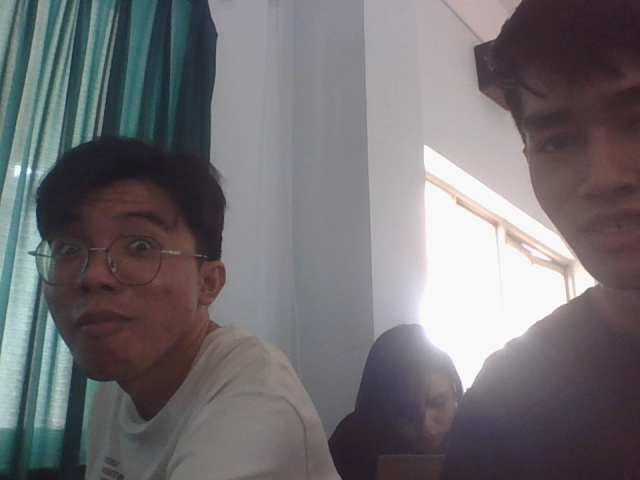real: (38, 128, 222, 389)
